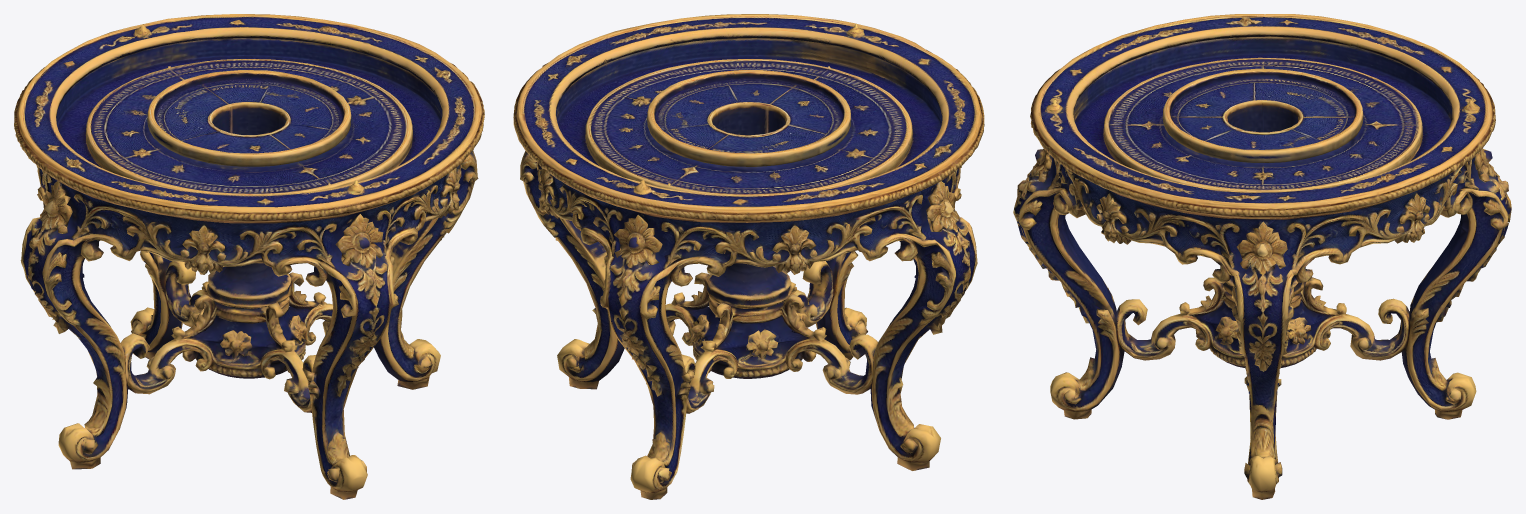
The model's file is EtherVessel_Table.glb.
3 renders of one model, left to right at view 1: azimuth 30°, elevation 25°; view 2: azimuth 150°, elevation 25°; view 3: azimuth 270°, elevation 25°, orthographic. The views are drawn at different scales.
Parts seen in each view (by area): view 1: tripo_node_b21315aa-0435-41ed-ad2e-31e69a83943a; view 2: tripo_node_b21315aa-0435-41ed-ad2e-31e69a83943a; view 3: tripo_node_b21315aa-0435-41ed-ad2e-31e69a83943a.
Part boxes in pixels (bbox=[...]): tripo_node_b21315aa-0435-41ed-ad2e-31e69a83943a: bbox=[14, 14, 484, 499]; tripo_node_b21315aa-0435-41ed-ad2e-31e69a83943a: bbox=[513, 14, 984, 499]; tripo_node_b21315aa-0435-41ed-ad2e-31e69a83943a: bbox=[1013, 14, 1511, 499].
Size of the model in its own units: 0.9799 by 0.6828 by 0.9791.
1 material, 1 textured.
